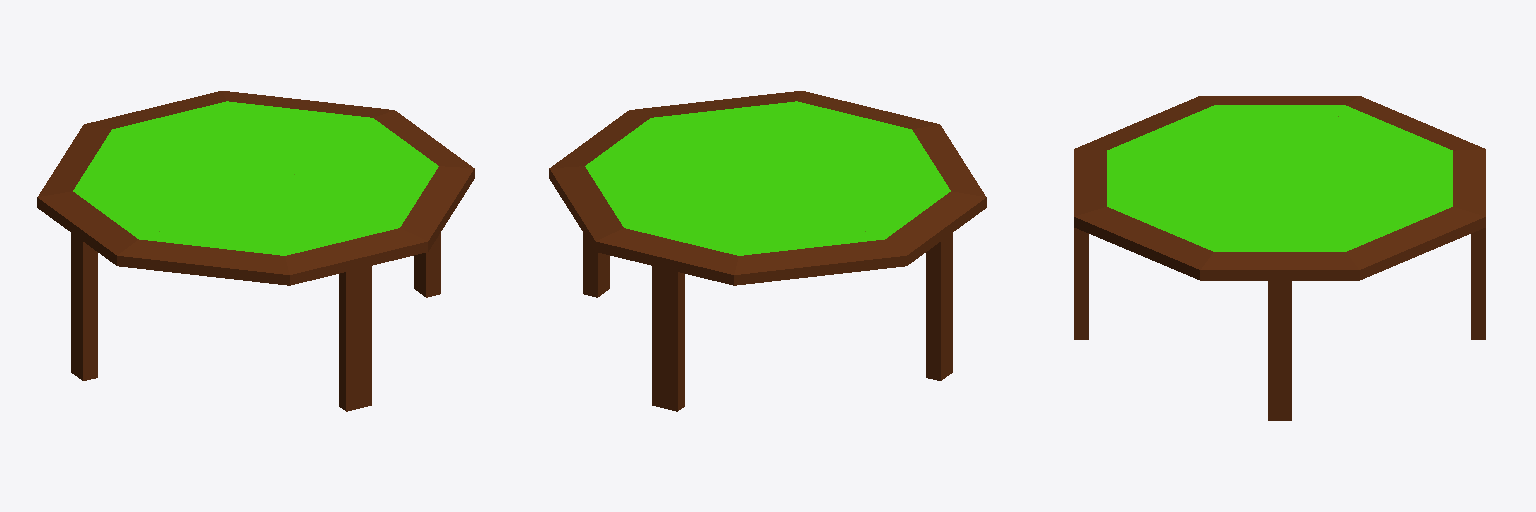
The picture shows the model from 3 angles: view 1: azimuth 30°, elevation 25°; view 2: azimuth 150°, elevation 25°; view 3: azimuth 270°, elevation 25°; orthographic projection.
Parts seen in each view (by area): view 1: Cube_Cube.002; view 2: Cube_Cube.002; view 3: Cube_Cube.002.
Part boxes in pixels (x1,y1,x2,y2): Cube_Cube.002: (37, 91, 474, 411); Cube_Cube.002: (549, 91, 986, 411); Cube_Cube.002: (1074, 96, 1485, 420).
Bounding box in the file's own units: 4 × 1.65 × 3.99.
1 materials, 1 textured.